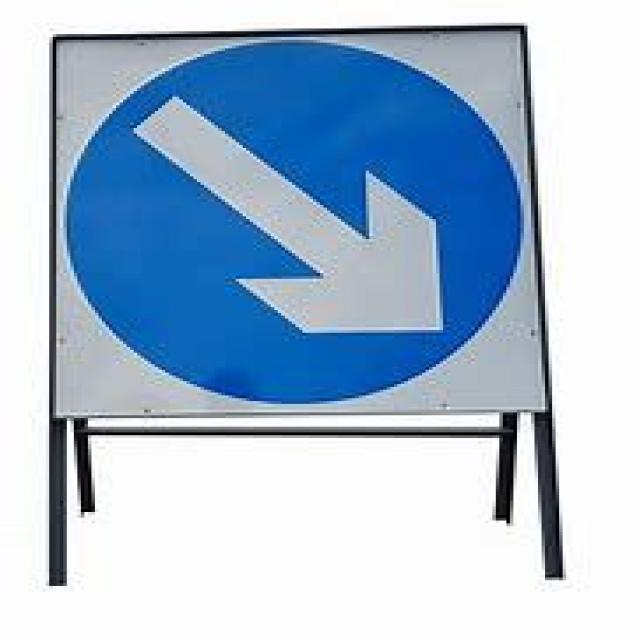COMPULSARY_KEEP_RIGHT: (64, 37, 528, 404)
